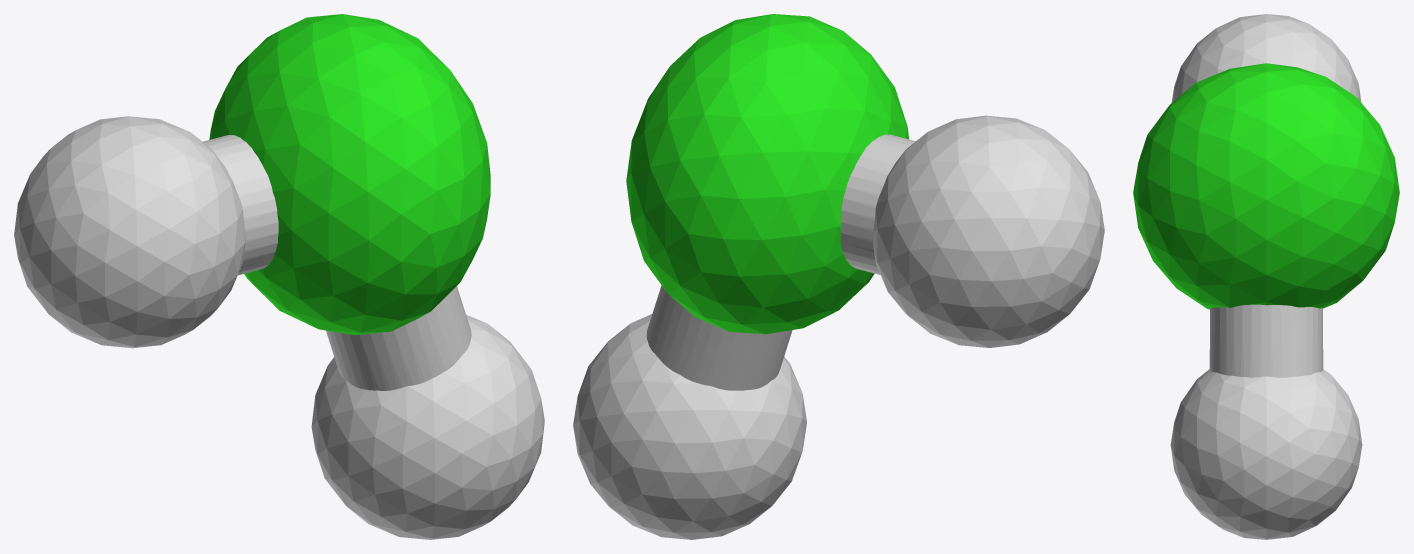
File: BeH2.glb
3 renders of one model, left to right at view 1: azimuth 30°, elevation 25°; view 2: azimuth 150°, elevation 25°; view 3: azimuth 270°, elevation 25°, orthographic. The views are drawn at different scales.
Visible parts, largest first — view 1: Shape_IndexedFaceSet, Shape_IndexedFaceSet.001, Shape_IndexedFaceSet.002, Shape_IndexedFaceSet.005, Shape_IndexedFaceSet.008, Shape_IndexedFaceSet.003, Shape_IndexedFaceSet.007; view 2: Shape_IndexedFaceSet, Shape_IndexedFaceSet.001, Shape_IndexedFaceSet.002, Shape_IndexedFaceSet.005, Shape_IndexedFaceSet.008, Shape_IndexedFaceSet.003, Shape_IndexedFaceSet.007; view 3: Shape_IndexedFaceSet, Shape_IndexedFaceSet.002, Shape_IndexedFaceSet.001, Shape_IndexedFaceSet.005, Shape_IndexedFaceSet.003.
Boxes of the visible parts, bbox=[...] form: Shape_IndexedFaceSet: bbox=[209, 14, 490, 335]; Shape_IndexedFaceSet.001: bbox=[14, 116, 245, 348]; Shape_IndexedFaceSet.002: bbox=[311, 314, 544, 539]; Shape_IndexedFaceSet.005: bbox=[326, 286, 471, 390]; Shape_IndexedFaceSet.008: bbox=[203, 136, 274, 275]; Shape_IndexedFaceSet.003: bbox=[331, 288, 454, 340]; Shape_IndexedFaceSet.007: bbox=[225, 135, 278, 269]; Shape_IndexedFaceSet: bbox=[626, 14, 908, 334]; Shape_IndexedFaceSet.001: bbox=[873, 115, 1104, 347]; Shape_IndexedFaceSet.002: bbox=[573, 314, 806, 539]; Shape_IndexedFaceSet.005: bbox=[646, 285, 792, 390]; Shape_IndexedFaceSet.008: bbox=[844, 135, 915, 274]; Shape_IndexedFaceSet.003: bbox=[663, 287, 786, 340]; Shape_IndexedFaceSet.007: bbox=[840, 134, 893, 269]; Shape_IndexedFaceSet: bbox=[1133, 63, 1399, 309]; Shape_IndexedFaceSet.002: bbox=[1170, 369, 1362, 539]; Shape_IndexedFaceSet.001: bbox=[1171, 14, 1361, 102]; Shape_IndexedFaceSet.005: bbox=[1209, 320, 1323, 377]; Shape_IndexedFaceSet.003: bbox=[1210, 304, 1322, 326].
Size of the model in its own units: 0.183 by 0.1827 by 0.1032.
